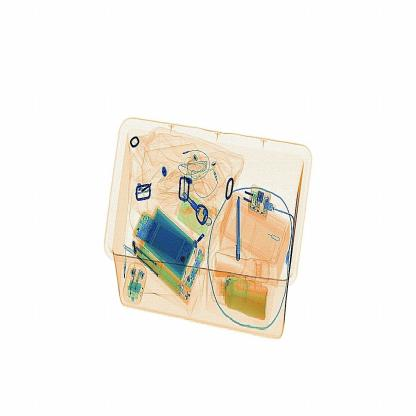pliers: (225, 186, 247, 262)
